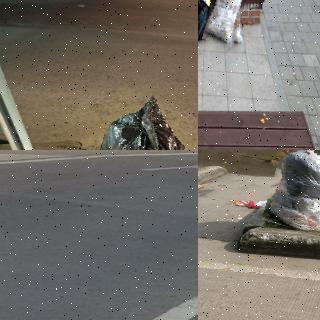Garbage: (100, 90, 198, 150), (267, 150, 320, 234), (207, 0, 250, 46), (198, 0, 215, 39)
